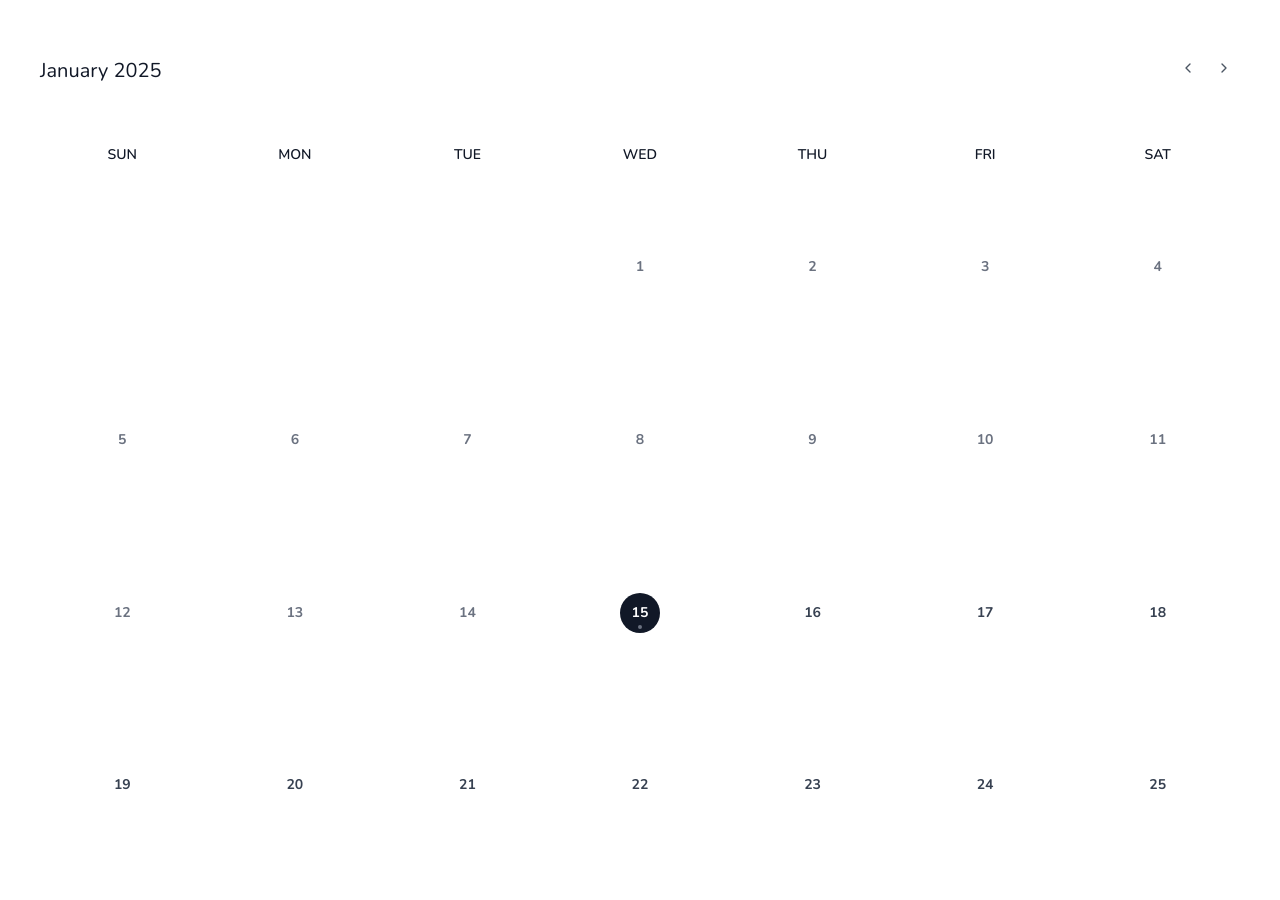
CalendarSection › should navigate to previous month
The image size is (1280, 900).
Click the button named "Previous month" at (1188, 71), box [1172, 52, 1204, 89]
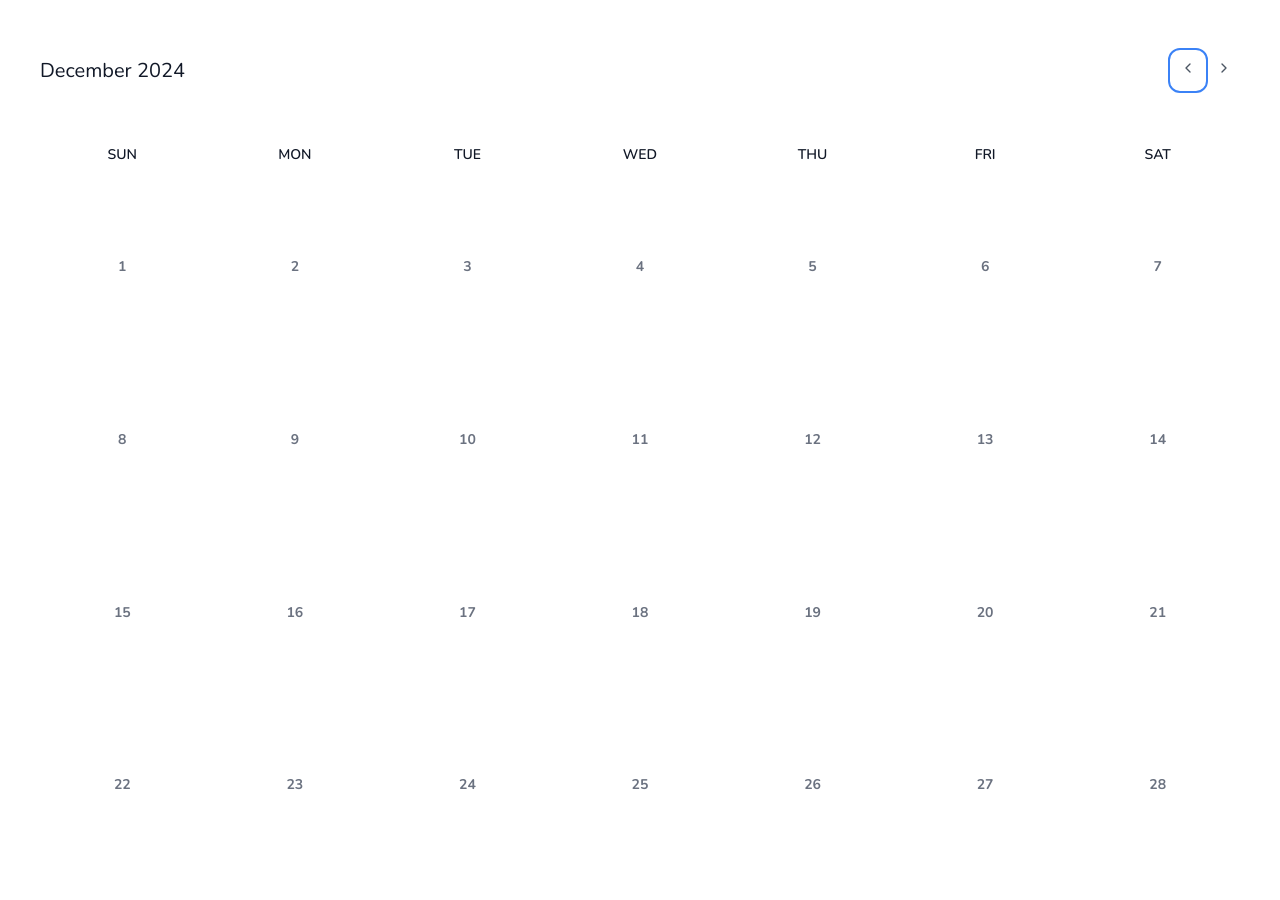
Result: the heading "December 2024" is shown at [40, 57, 185, 85]
